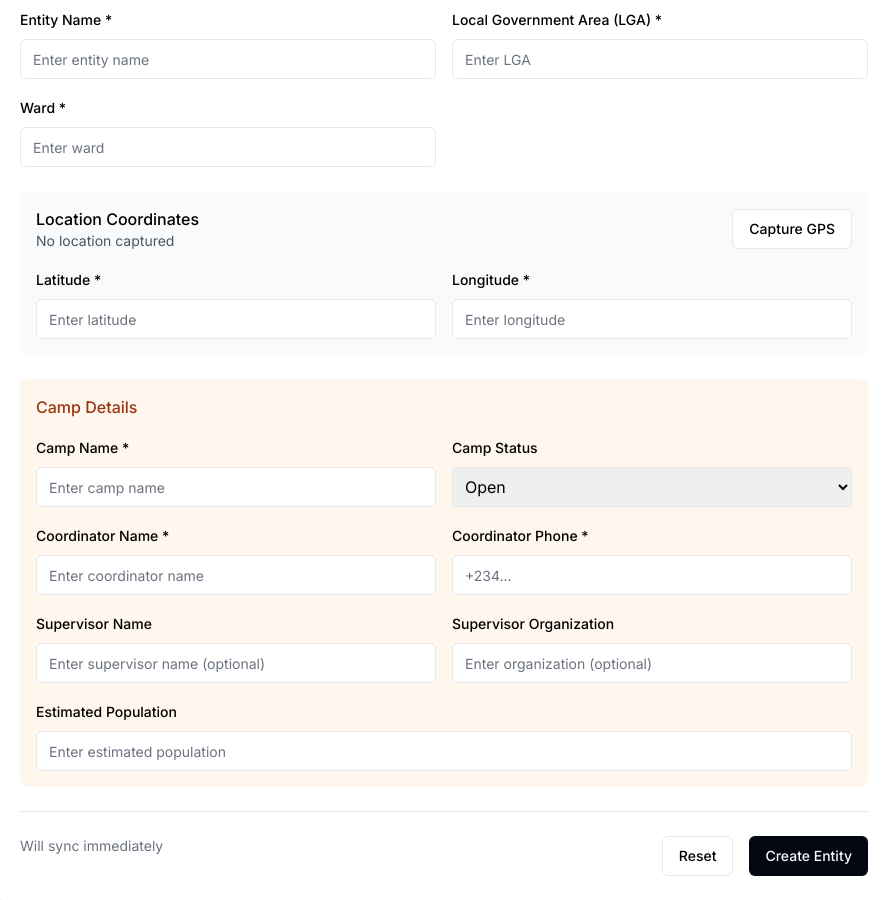
EntityManagementForm › validates required fields for camp entity
(page scrolled)
Click the button "Create Entity": (809, 856) [749,836,868,876]
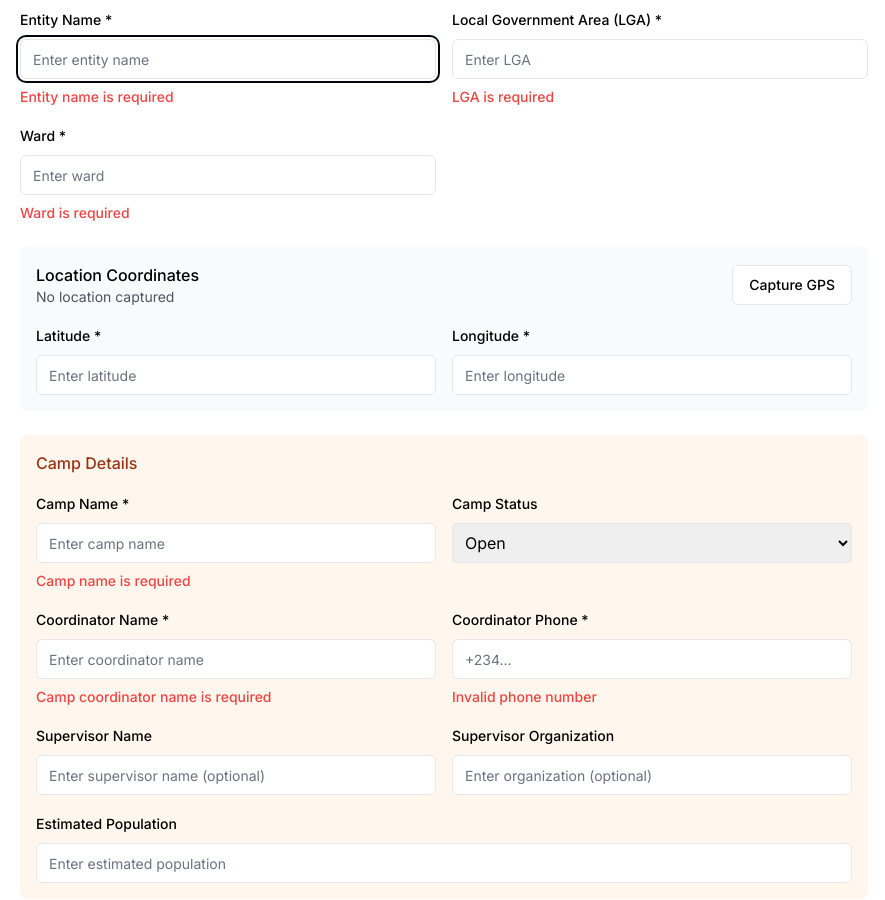
expect the text "Entity name is required" is shown: met, box [20,88,174,105]
expect the text "LGA is required" is shown: met, box [452,88,554,105]
expect the text "Ward is required" is shown: met, box [20,204,130,221]
